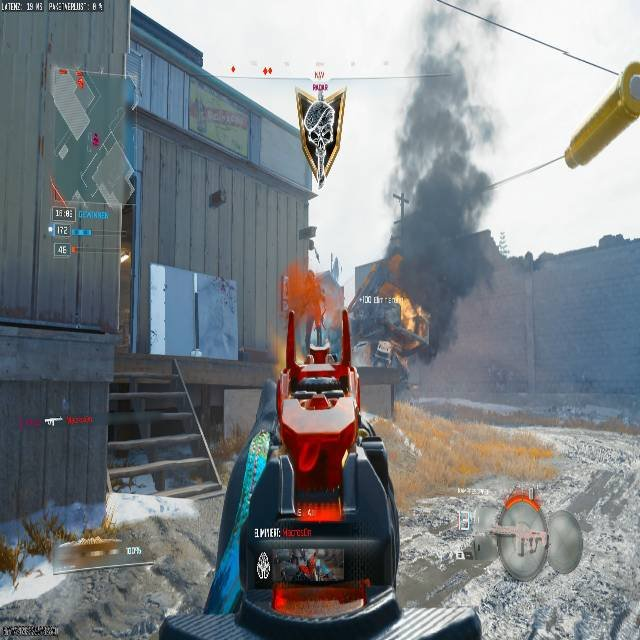head: (491, 487, 548, 579)
player: (345, 280, 430, 418)
